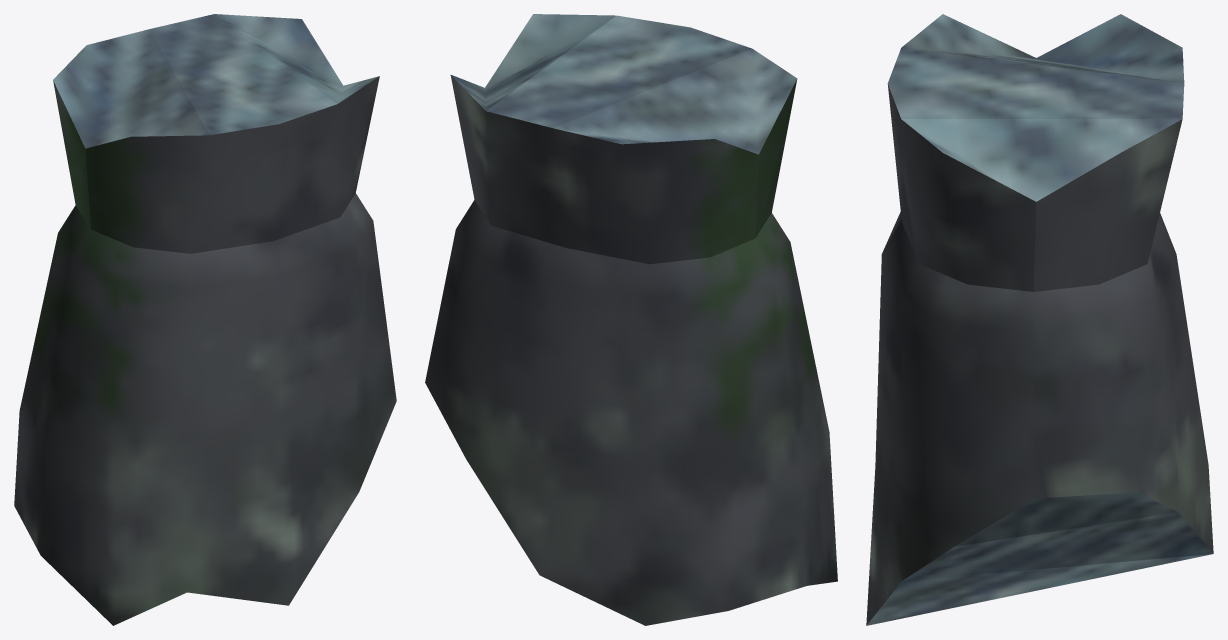
The model's file is SM_KnightRubble3.fbx.
3 renders of one model, left to right at view 1: azimuth 30°, elevation 25°; view 2: azimuth 150°, elevation 25°; view 3: azimuth 270°, elevation 25°, orthographic. The views are drawn at different scales.
Parts seen in each view (by area): view 1: KnightMiddle; view 2: KnightMiddle; view 3: KnightMiddle.
Part boxes in pixels (bbox=[...]): KnightMiddle: bbox=[14, 14, 396, 625]; KnightMiddle: bbox=[425, 14, 837, 625]; KnightMiddle: bbox=[866, 14, 1213, 625].
Bounding box in the file's own units: 163 × 220 × 128.
